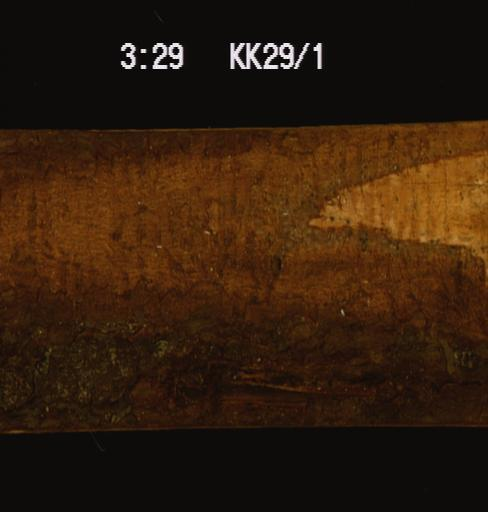wave: (0, 128, 487, 429)
